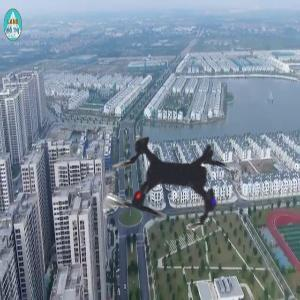drone: (72, 87, 270, 285)
